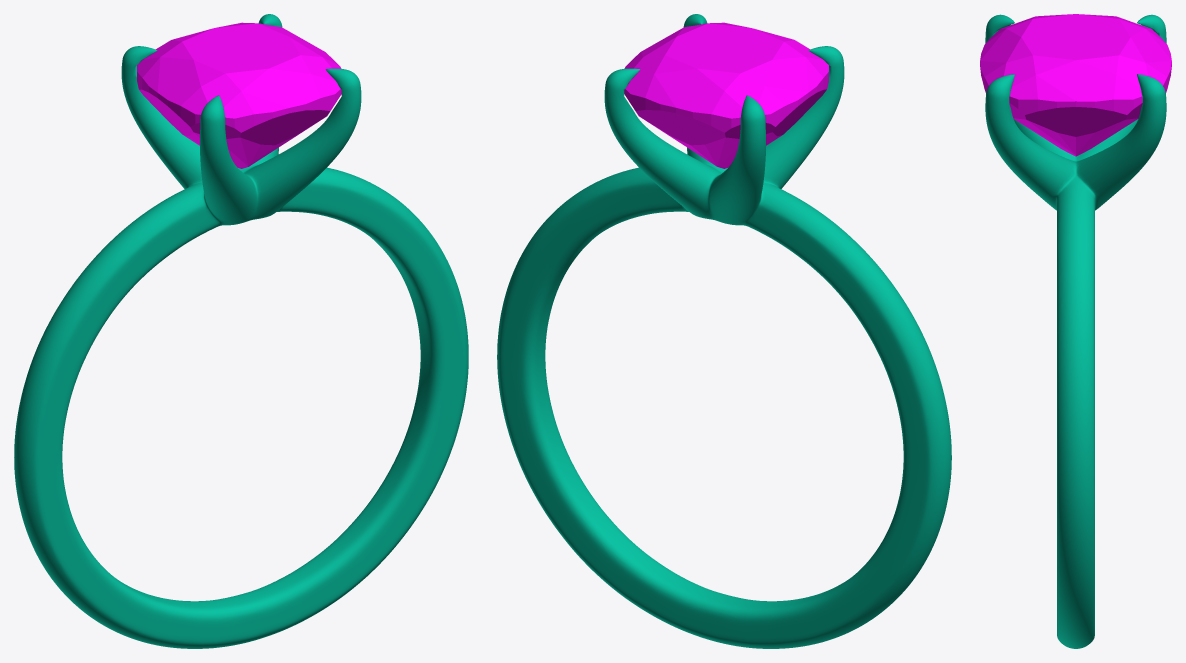
File: BE1FM199_CU_200ct_RENDER.glb
3 views of the same model, side by side, from view 1: azimuth 30°, elevation 25°; view 2: azimuth 150°, elevation 25°; view 3: azimuth 270°, elevation 25° (orthographic).
Visible parts, largest first — view 1: Metal 01, CS_Diamond_Cushion; view 2: Metal 01, CS_Diamond_Cushion; view 3: Metal 01, CS_Diamond_Cushion.
Boxes of the visible parts, x1,y1,x2,y2 form: Metal 01: (14, 14, 468, 648); CS_Diamond_Cushion: (137, 22, 341, 168); Metal 01: (497, 14, 951, 648); CS_Diamond_Cushion: (624, 22, 828, 168); Metal 01: (985, 14, 1166, 648); CS_Diamond_Cushion: (980, 14, 1171, 156).
Size of the model in its own units: 20.09 by 25.35 by 7.5.
